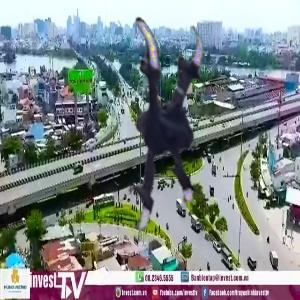drone: (42, 18, 250, 226)
